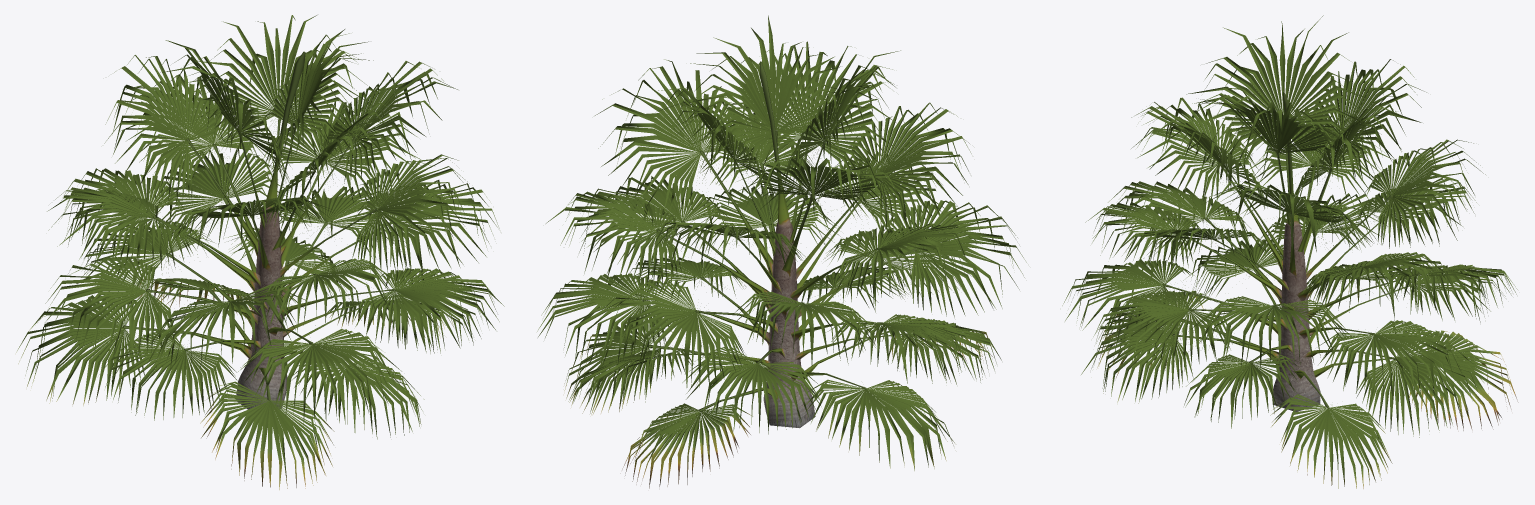
Rendered from Washingtonia filifera HD_Curved mat 0_LOD2.fbx.
3 renders of one model, left to right at view 1: azimuth 30°, elevation 25°; view 2: azimuth 150°, elevation 25°; view 3: azimuth 270°, elevation 25°, orthographic. The views are drawn at different scales.
Visible parts, largest first — view 1: Washingtonia_filifera_HD; view 2: Washingtonia_filifera_HD; view 3: Washingtonia_filifera_HD.
Part boxes in pixels (box(x1,y1,x2,y2)): Washingtonia_filifera_HD: box(16, 15, 504, 489); Washingtonia_filifera_HD: box(537, 15, 1026, 488); Washingtonia_filifera_HD: box(1062, 15, 1518, 488).
Size of the model in its own units: 4.06 by 3.45 by 4.11.
Materials: 6 (6 with a texture image).
